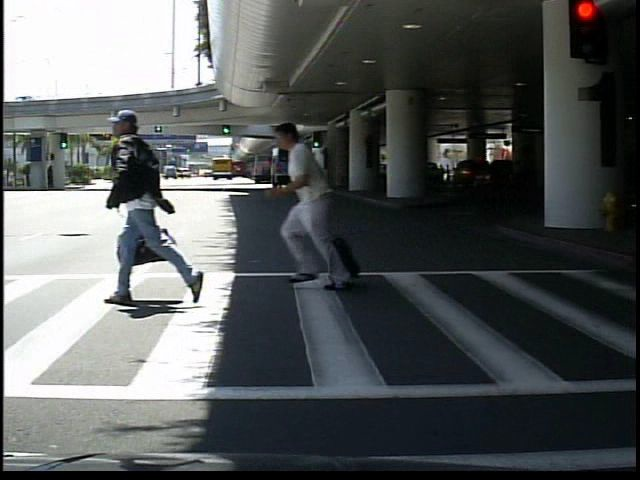person: (108, 113, 195, 310), (287, 114, 356, 293)
